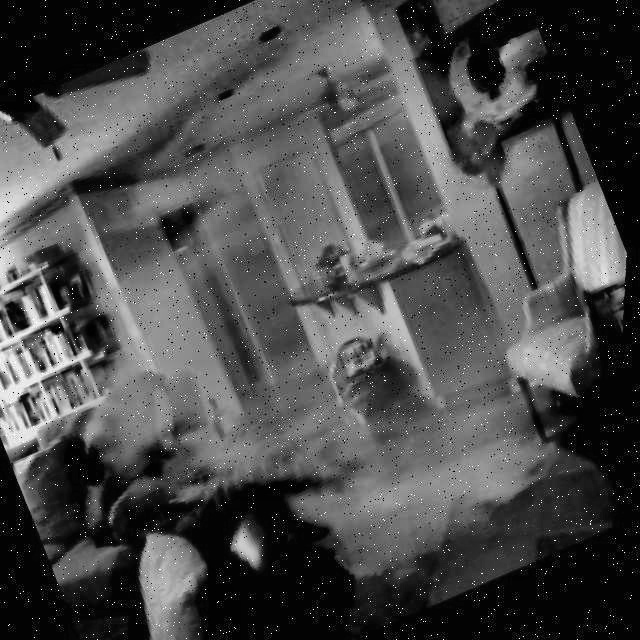Smoke: (0, 0, 628, 640)
